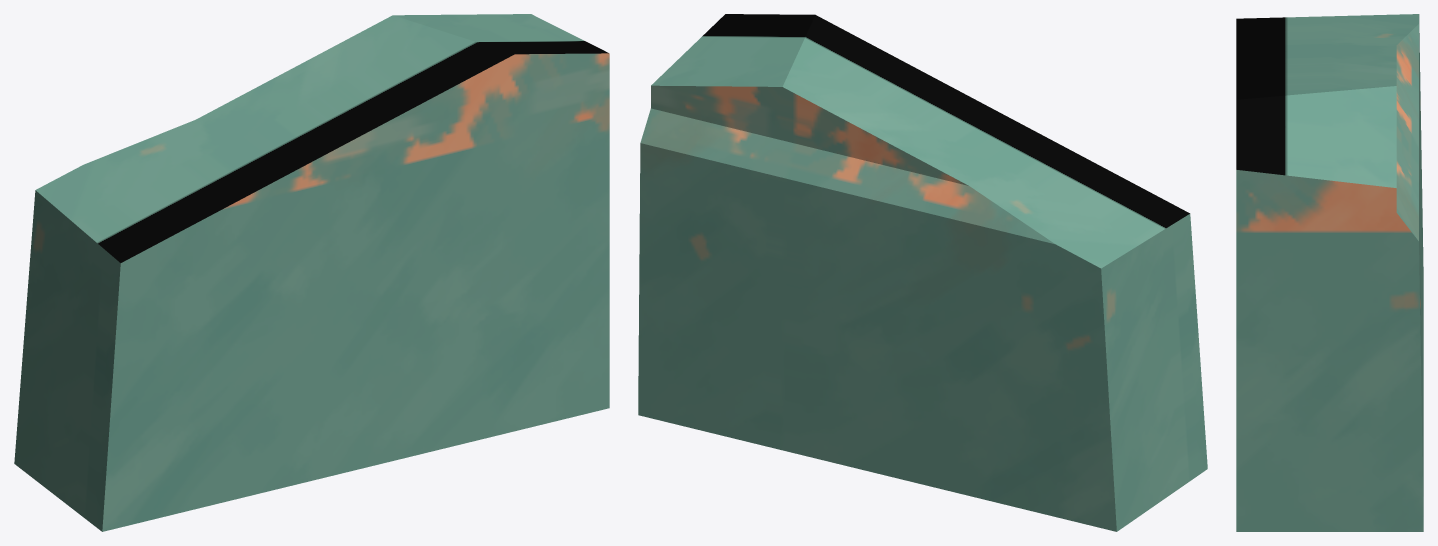
File: wall_plain_s05.fbx
The picture shows the model from 3 angles, left to right: view 1: azimuth 30°, elevation 25°; view 2: azimuth 150°, elevation 25°; view 3: azimuth 270°, elevation 25°; orthographic projection. The views are drawn at different scales.
Parts seen in each view (by area): view 1: wall_plain_s05; view 2: wall_plain_s05; view 3: wall_plain_s05.
Boxes of the visible parts, x1,y1,x2,y2 form: wall_plain_s05: (14,14,609,531); wall_plain_s05: (638,14,1207,531); wall_plain_s05: (1236,14,1423,531).
Bounding box in the file's own units: 3.73 × 2.65 × 1.17.
